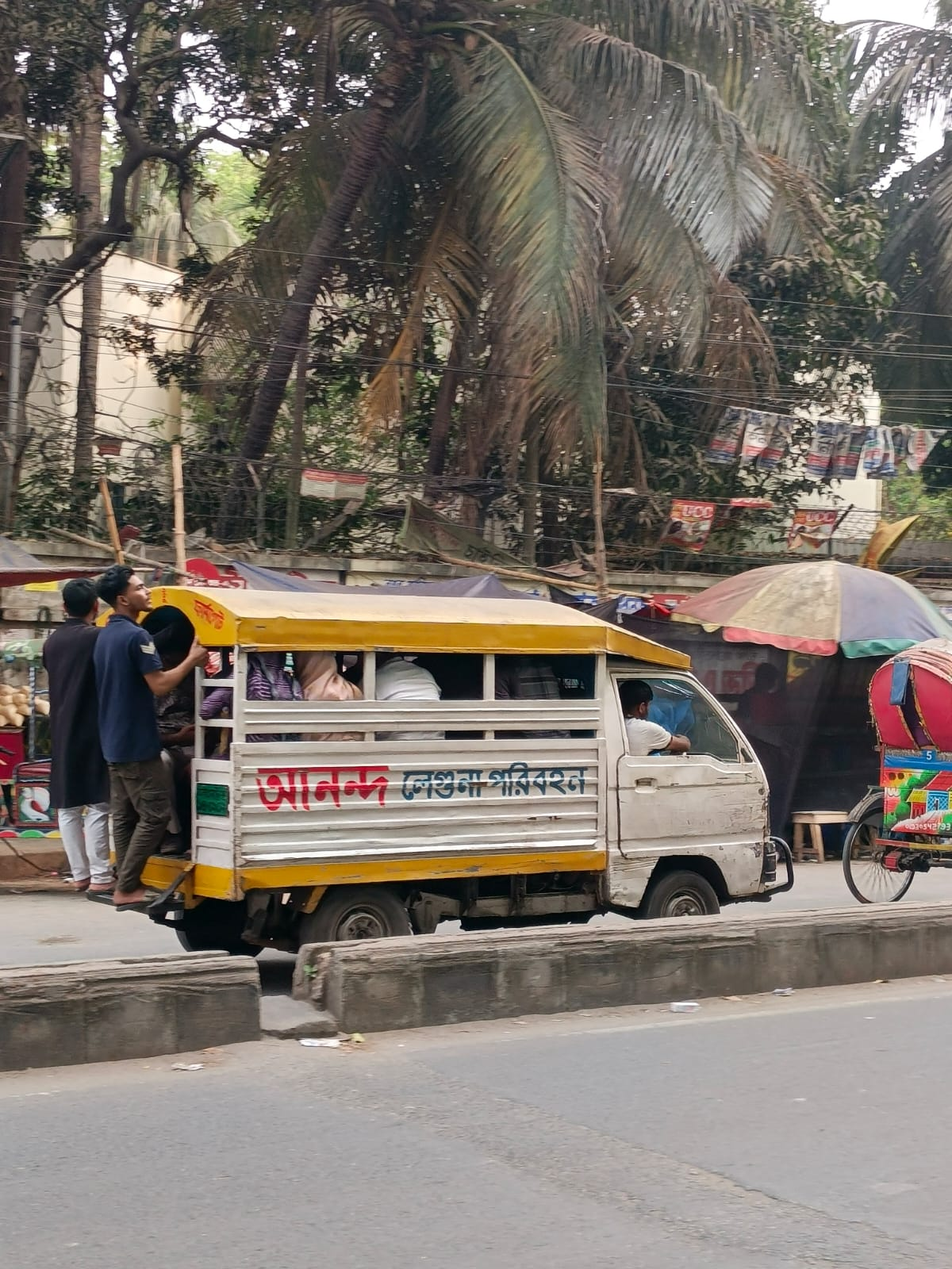Leguna: (56, 541, 799, 930)
